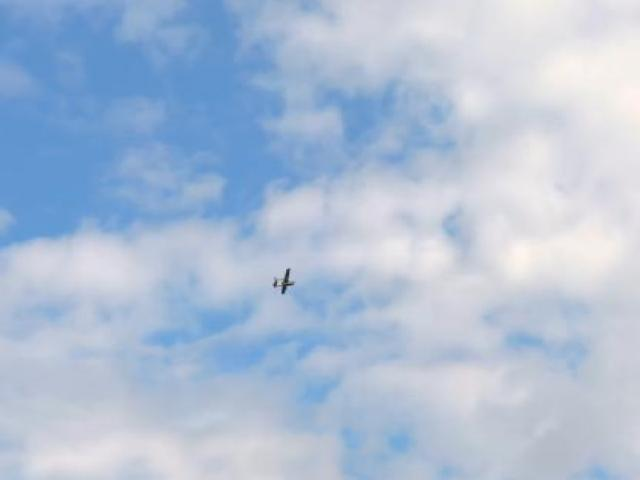uav: (270, 267, 296, 296)
